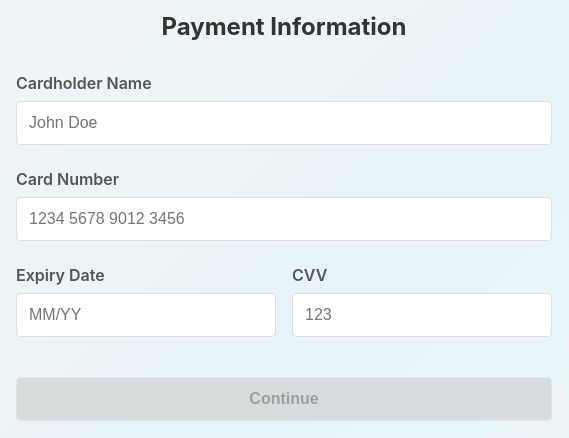
CreditCardStep › should format expiry date input
The width and height of the screenshot is (569, 438).
Type "1225" into the field labelled "Expiry Date" at (146, 315), box 16,293 -> 276,337
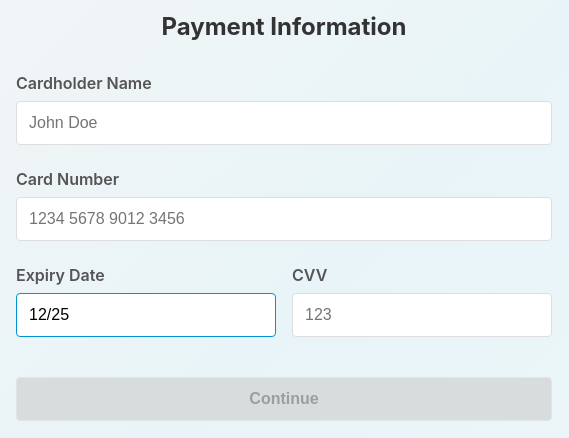
Check: the field labelled "Expiry Date" holds "12/25", box 16,293 -> 276,337
